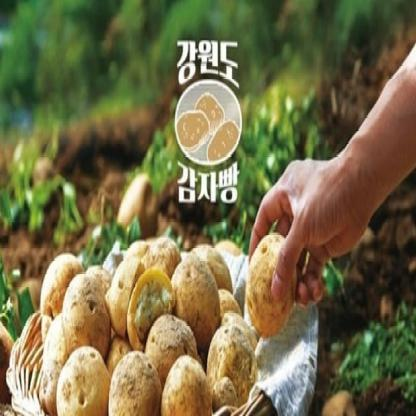potato: (248, 222, 310, 347), (62, 274, 122, 366), (207, 310, 261, 410), (102, 336, 160, 414), (171, 256, 220, 348), (60, 340, 120, 414), (162, 340, 212, 414), (142, 314, 194, 384)
